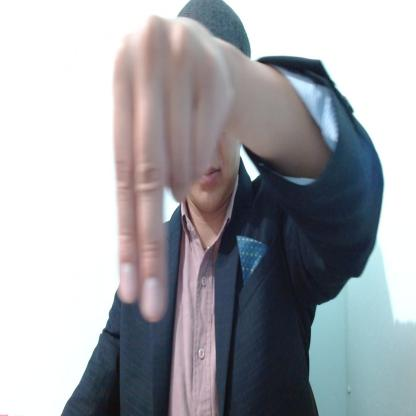N: (113, 14, 231, 322)
